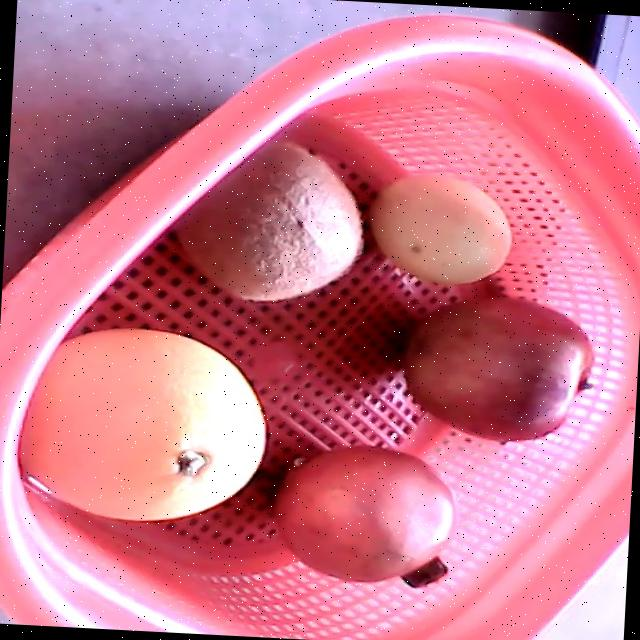apple: (402, 298, 594, 442)
kiwi: (179, 140, 363, 303)
lemon: (368, 172, 511, 284)
orange: (17, 329, 266, 520)
pomegranate: (275, 446, 454, 586)
